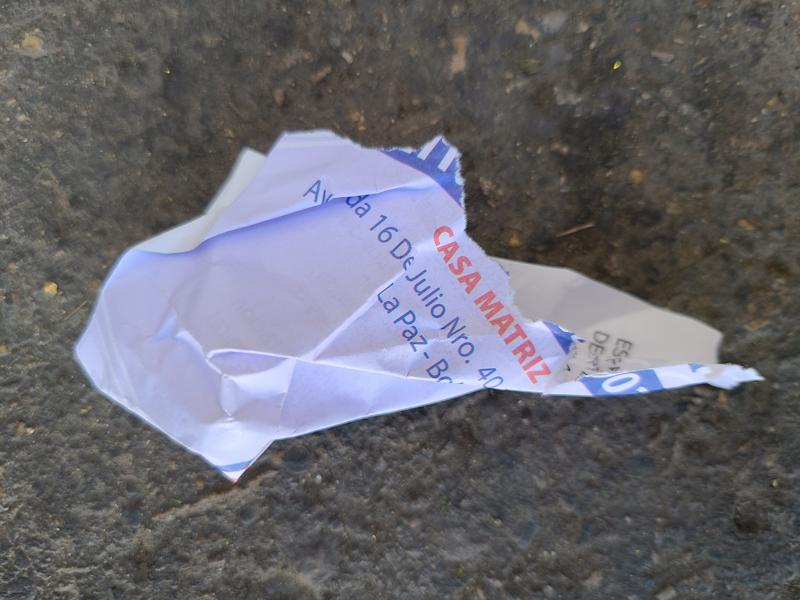papel: (71, 130, 764, 482)
